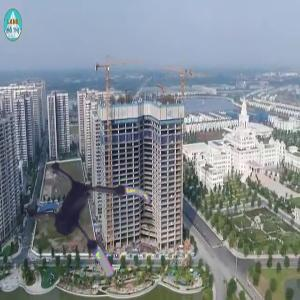drone: (12, 146, 157, 291)
